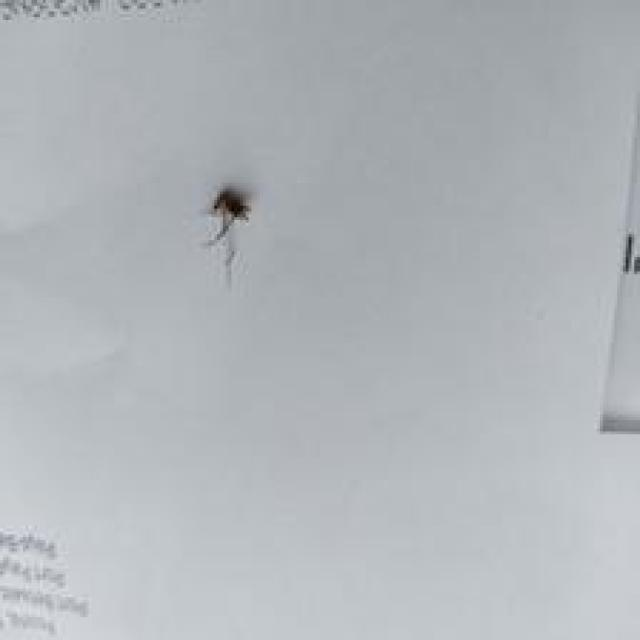Culex: (201, 184, 253, 287)
